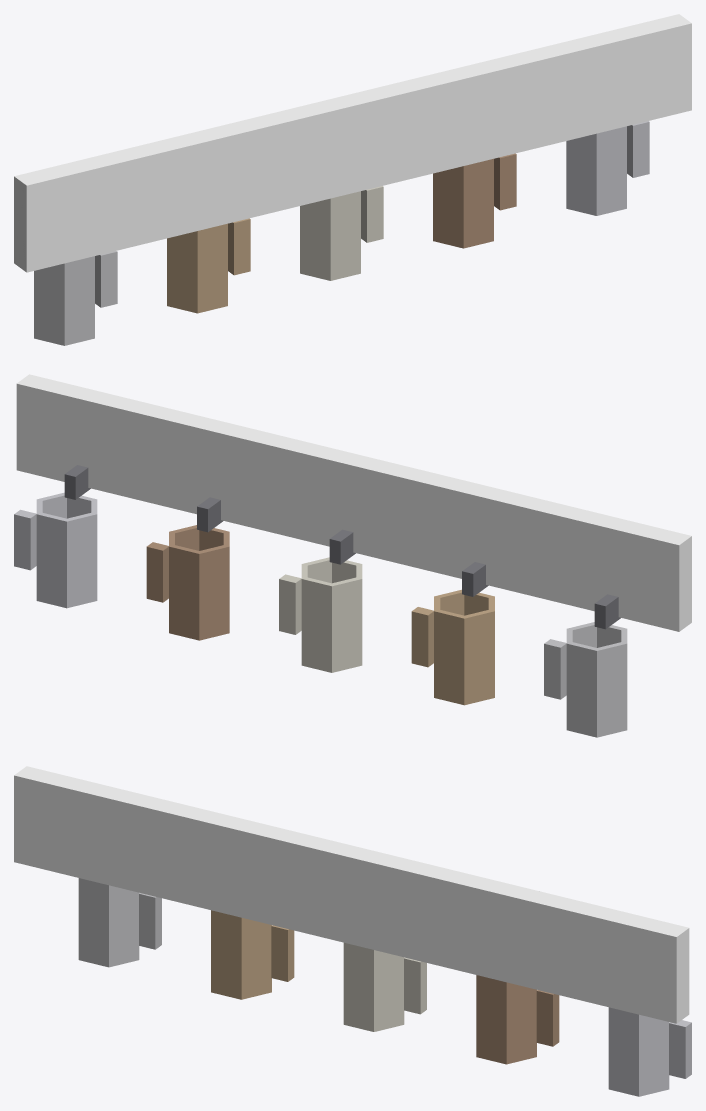
Rendered from tankard_rack.glb.
The picture shows the model from 3 angles, top to bottom: view 1: azimuth 30°, elevation 25°; view 2: azimuth 150°, elevation 25°; view 3: azimuth 330°, elevation 25°; orthographic projection.
Parts seen in each view (by area): view 1: Tankard_rack; view 2: Tankard_rack; view 3: Tankard_rack.
Boxes of the visible parts, x1,y1,x2,y2 form: Tankard_rack: (14, 14, 691, 345); Tankard_rack: (14, 374, 691, 737); Tankard_rack: (14, 766, 691, 1096).
Size of the model in its own units: 1.2 by 0.315 by 0.1376.
